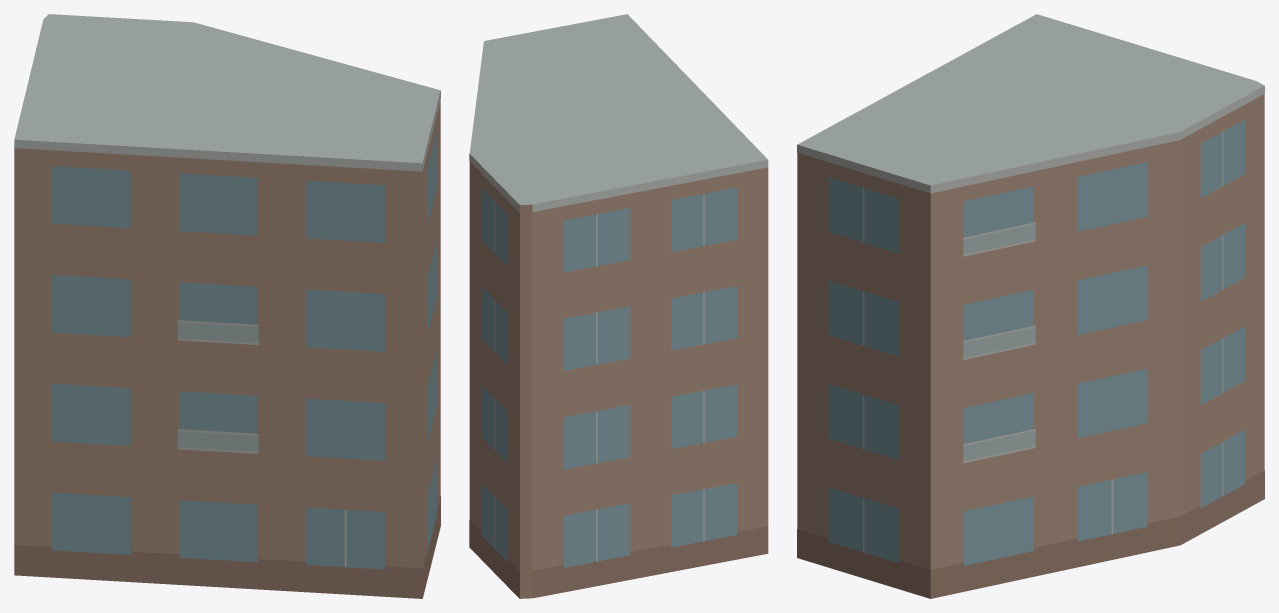
Rendered from survey-upis-33019210.glb.
3 renders of one model, left to right at view 1: azimuth 30°, elevation 25°; view 2: azimuth 150°, elevation 25°; view 3: azimuth 270°, elevation 25°, orthographic. The views are drawn at different scales.
Parts seen in each view (by area): view 1: survey-upis-33019210.tmp; view 2: survey-upis-33019210.tmp; view 3: survey-upis-33019210.tmp.
Boxes of the visible parts, <box> form: survey-upis-33019210.tmp: <box>14,14,440,598</box>; survey-upis-33019210.tmp: <box>469,14,768,598</box>; survey-upis-33019210.tmp: <box>797,14,1264,598</box>.
Size of the model in its own units: 11.27 by 12.65 by 12.98.
